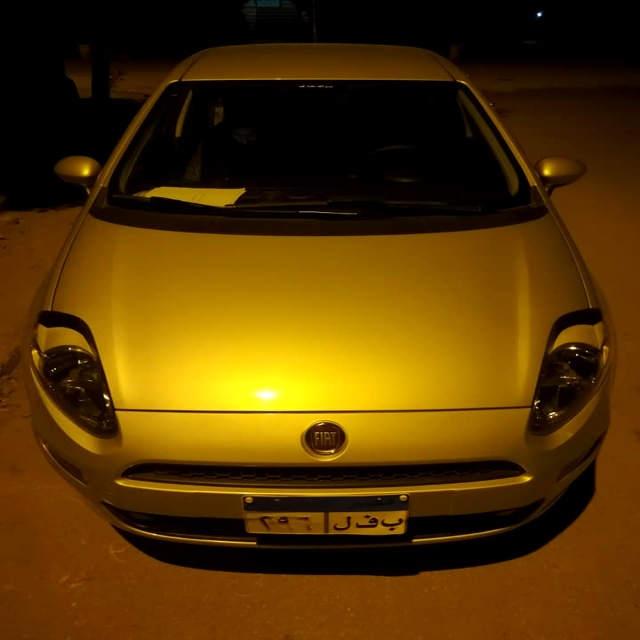License Plate: (240, 492, 411, 538)
